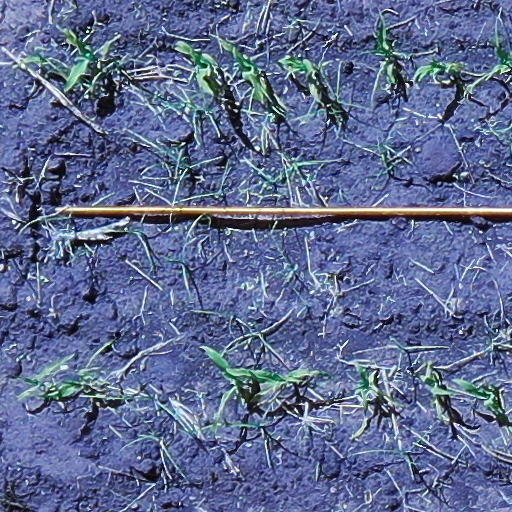planta: (199, 346, 270, 436), (62, 27, 118, 93), (218, 36, 271, 101), (12, 352, 76, 402), (366, 13, 409, 85), (173, 40, 221, 97), (278, 53, 326, 108), (417, 359, 458, 415), (449, 378, 505, 416), (353, 362, 401, 405), (249, 368, 320, 396), (412, 57, 464, 82), (36, 377, 86, 402)
